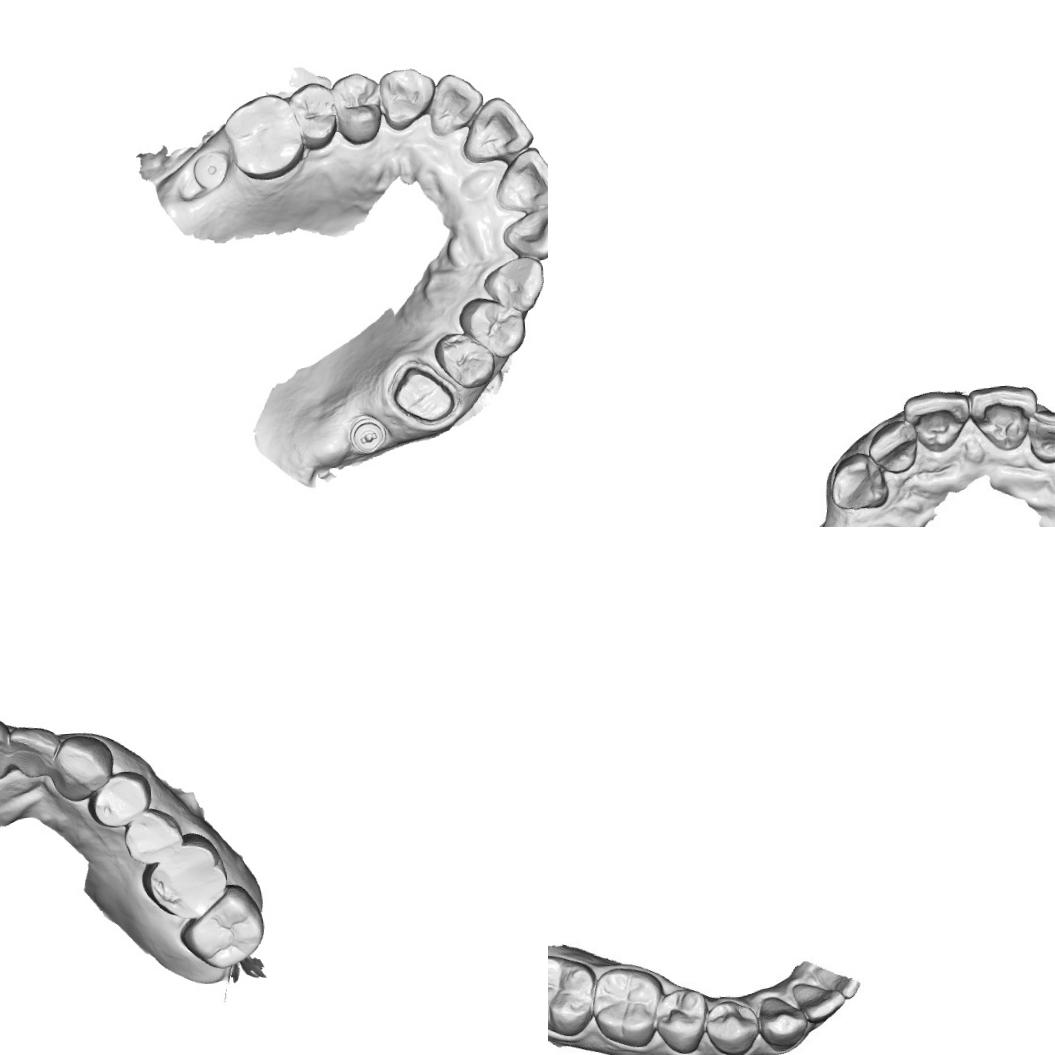canine: (374, 60, 438, 134), (48, 732, 114, 803), (478, 253, 547, 316), (825, 453, 890, 516), (756, 990, 810, 1052)
crown: (390, 358, 458, 426)
implant: (190, 149, 233, 191)
implant_minus: (346, 410, 390, 455)
incisor: (456, 92, 536, 164), (965, 384, 1038, 450), (902, 388, 974, 452), (423, 70, 488, 140), (489, 143, 548, 214), (2, 718, 62, 782), (866, 417, 923, 475), (498, 201, 548, 263), (792, 978, 845, 1026), (1023, 406, 1055, 462)
molar: (137, 832, 232, 924), (174, 882, 266, 976), (217, 87, 306, 183), (590, 962, 664, 1049), (548, 950, 596, 1040)
premolar: (455, 292, 530, 362), (326, 68, 391, 148), (430, 328, 498, 392), (287, 77, 342, 153), (87, 766, 152, 830), (118, 807, 184, 868), (655, 988, 708, 1054), (706, 999, 761, 1055)
